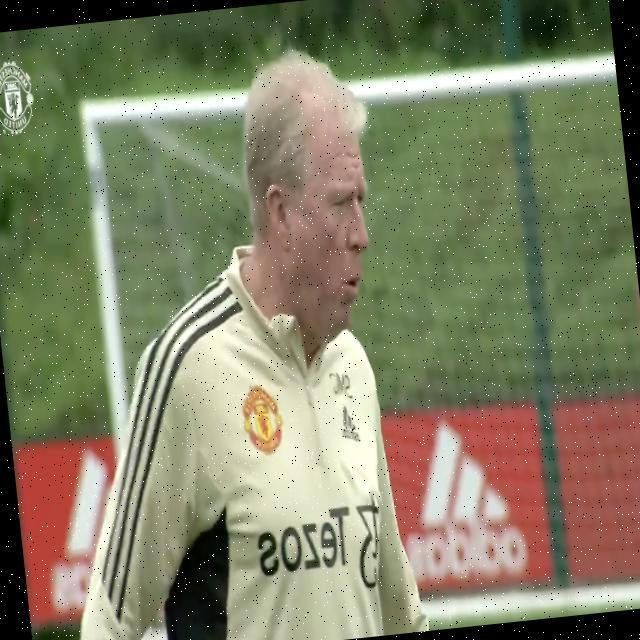Adidas: (339, 403, 361, 443)
